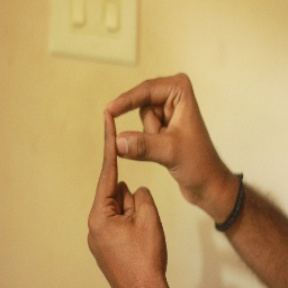P: (90, 69, 208, 238)
